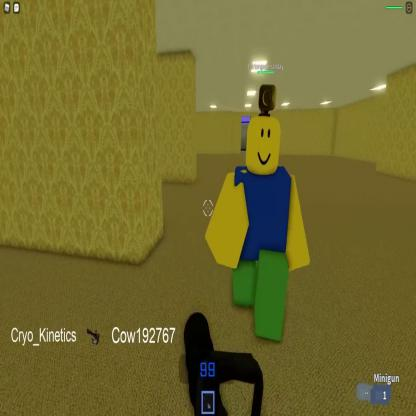Roblox-Avatar: (206, 85, 311, 344)
